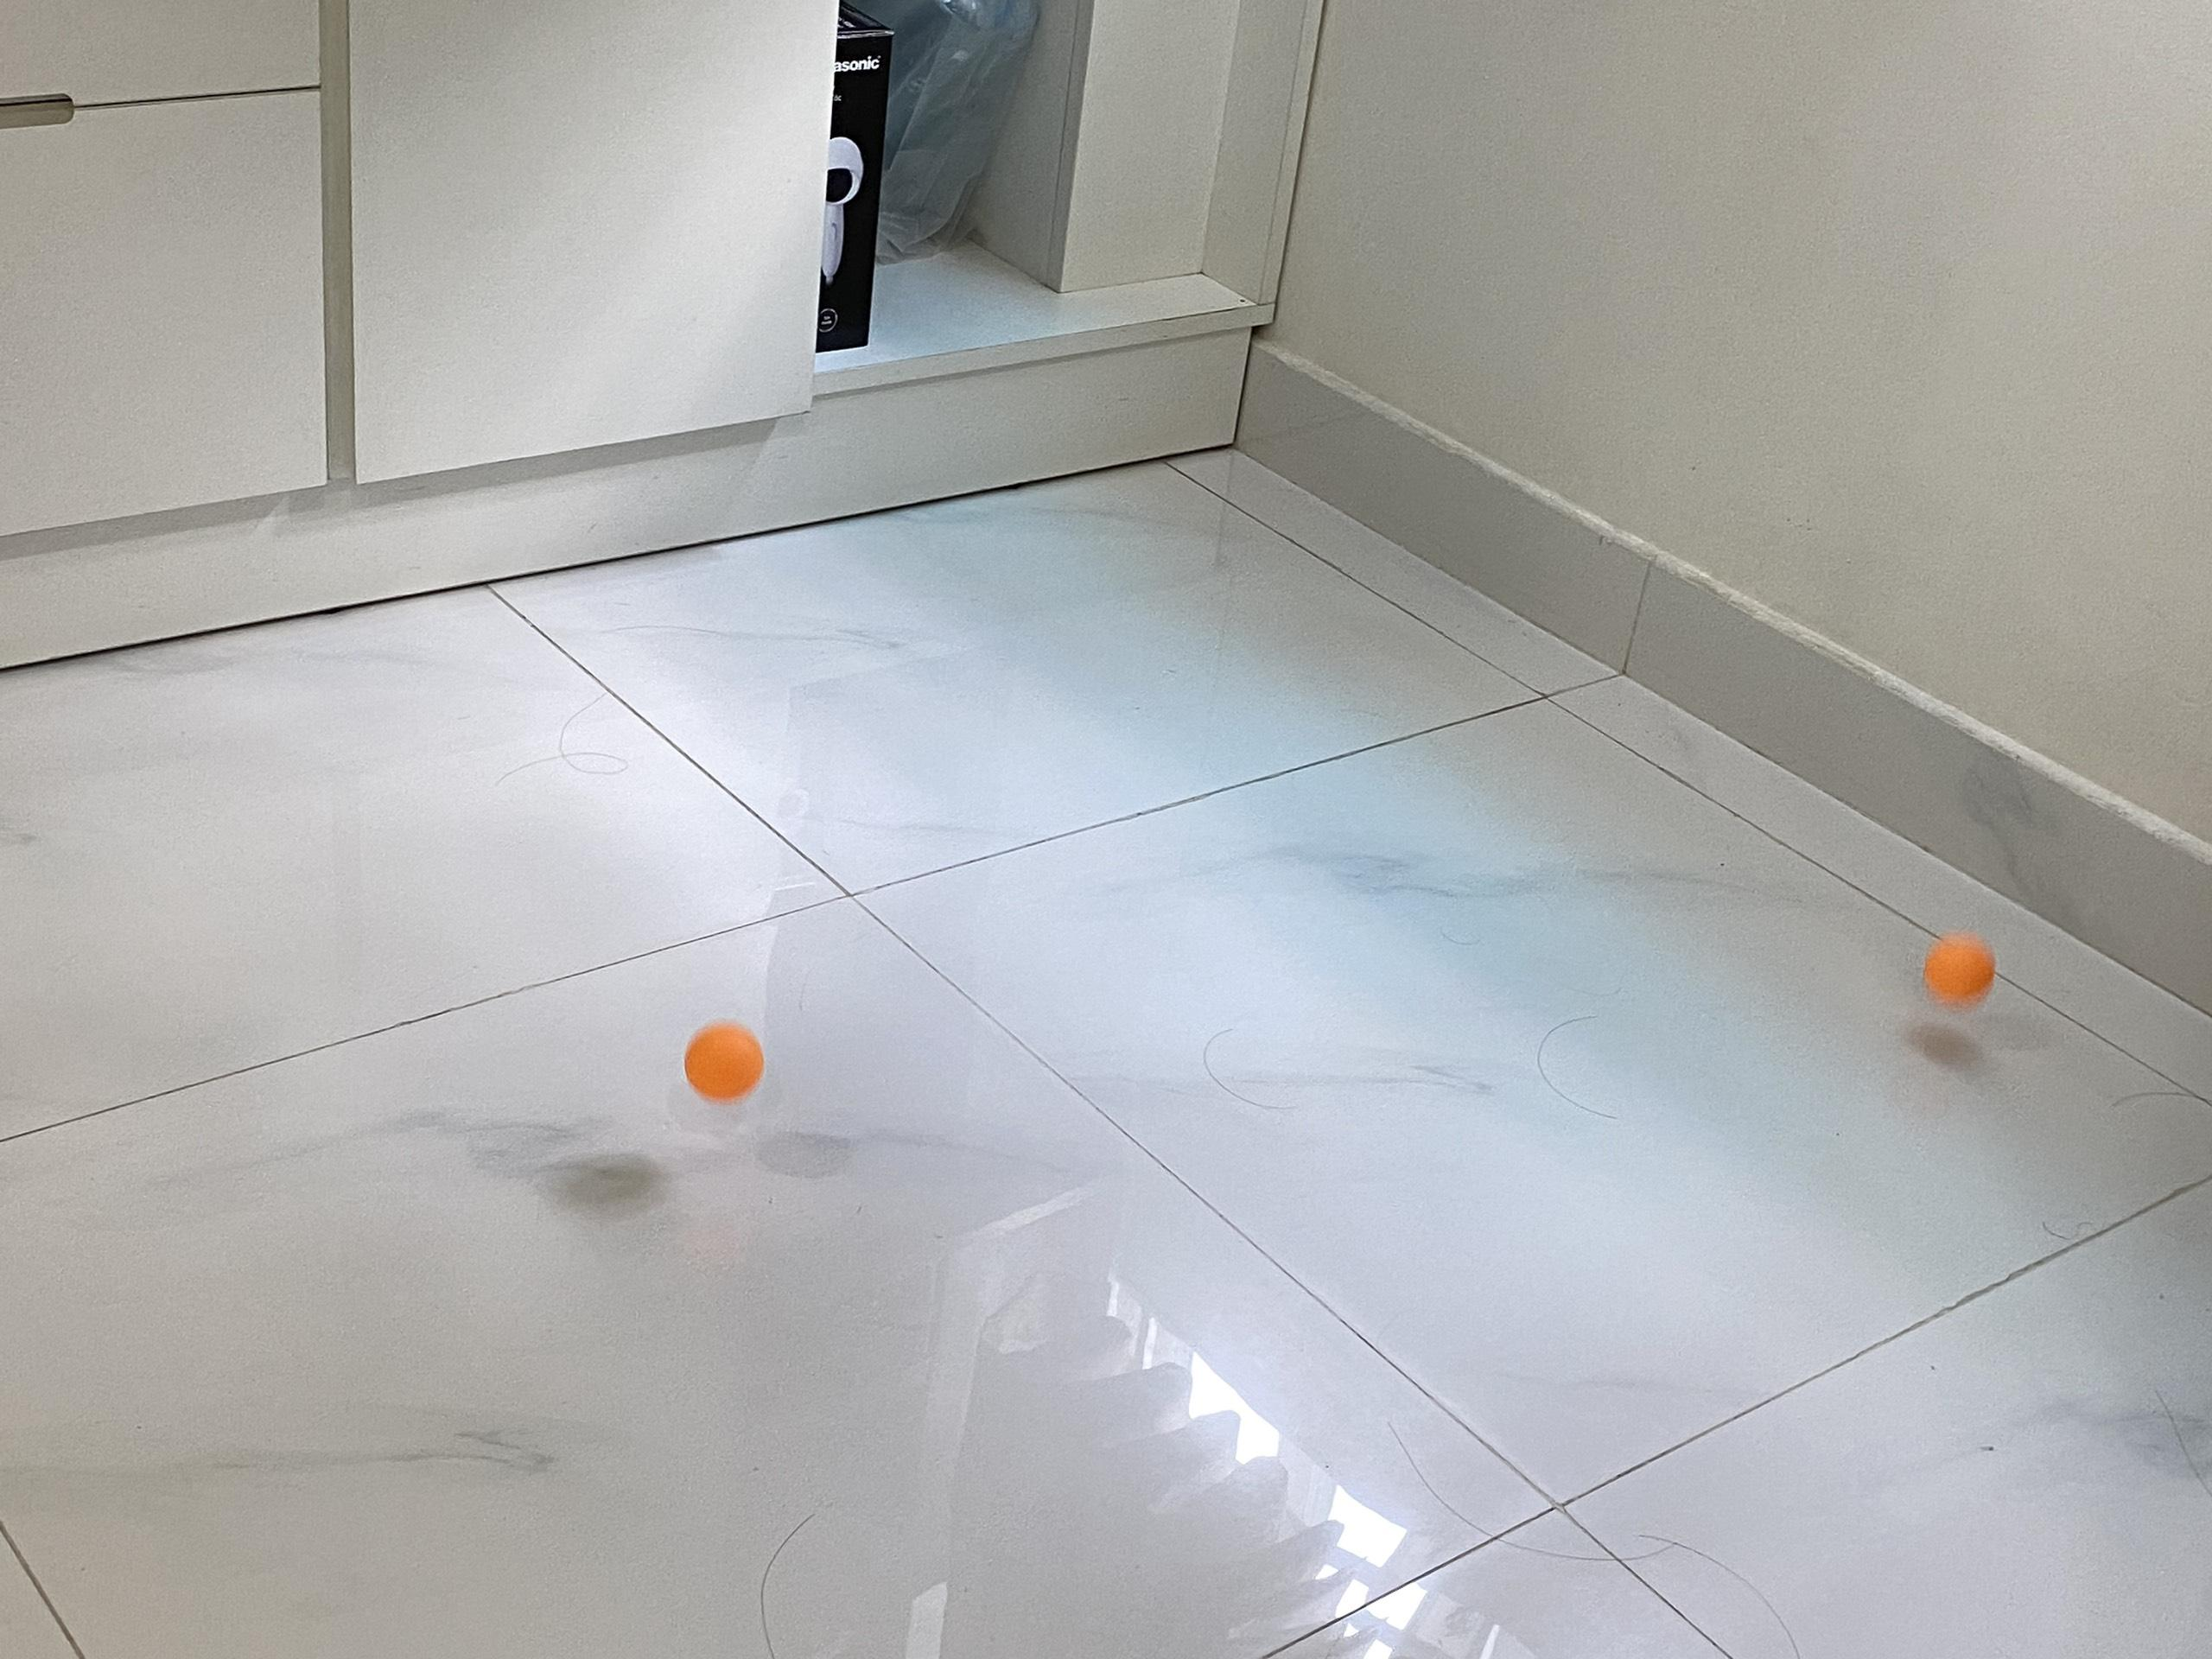oball: (690, 1018, 766, 1100), (1925, 929, 1994, 1011)
